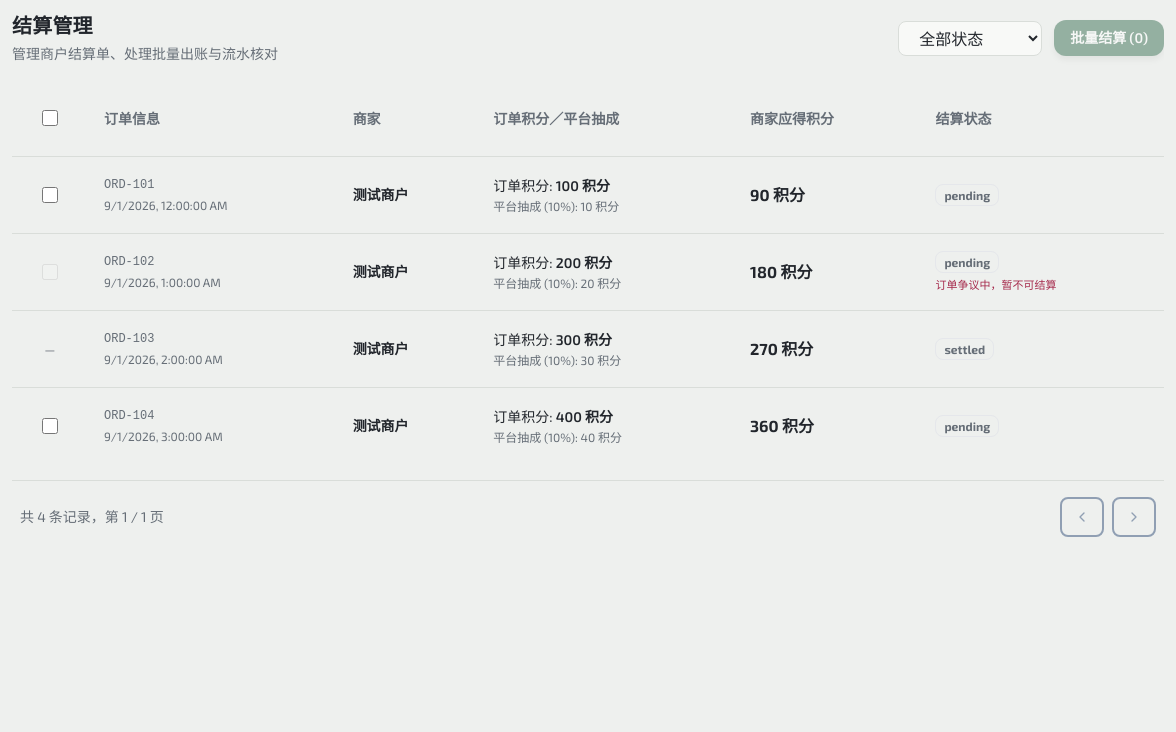
it: AdminSettlementPanel (PR 01 Remediation) › controls header checkbox indeterminate state on partial selection of eligible items
Expected: the text "ORD-101" is shown, [104,178,154,192]
Expected: the checkbox named "选择当前页待结算订单" is not checked, [42,110,58,126]
# Select row 1 (1 of 2 eligible pending items)
Click the checkbox with test id "admin-settlement-checkbox-1": (50, 195) [42,187,58,203]
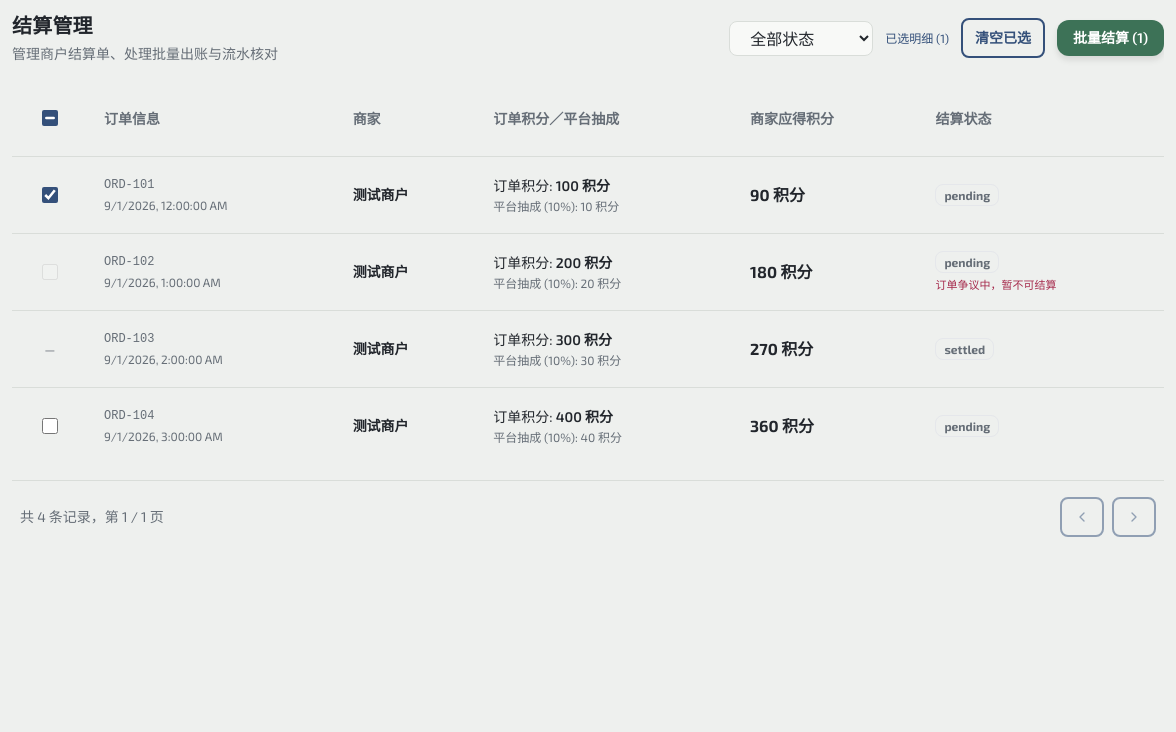
Expected: the checkbox named "选择当前页待结算订单" is not checked, [42,110,58,126]
# Select row 4 (now 2 of 2 eligible pending items selected)
Click the checkbox with test id "admin-settlement-checkbox-4": (50, 426) [42,418,58,434]
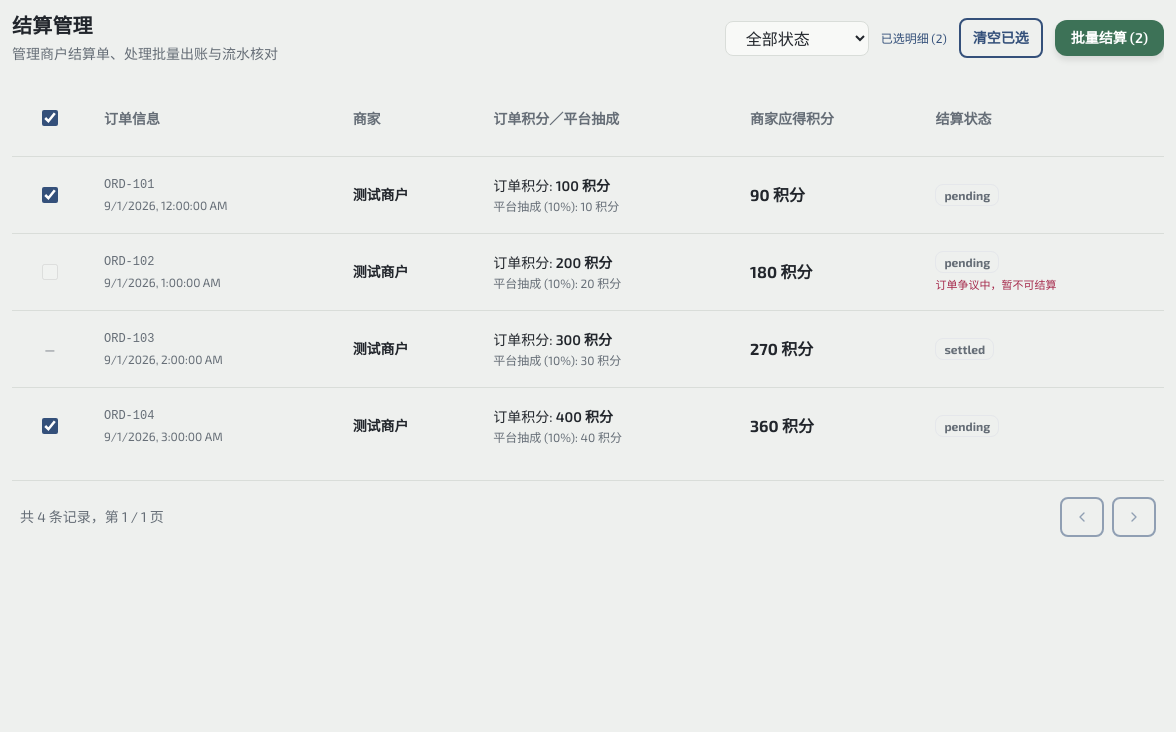
Expected: the checkbox named "选择当前页待结算订单" is checked, [42,110,58,126]
# Unselect row 1: partial again
Click the checkbox with test id "admin-settlement-checkbox-1": (50, 195) [42,187,58,203]
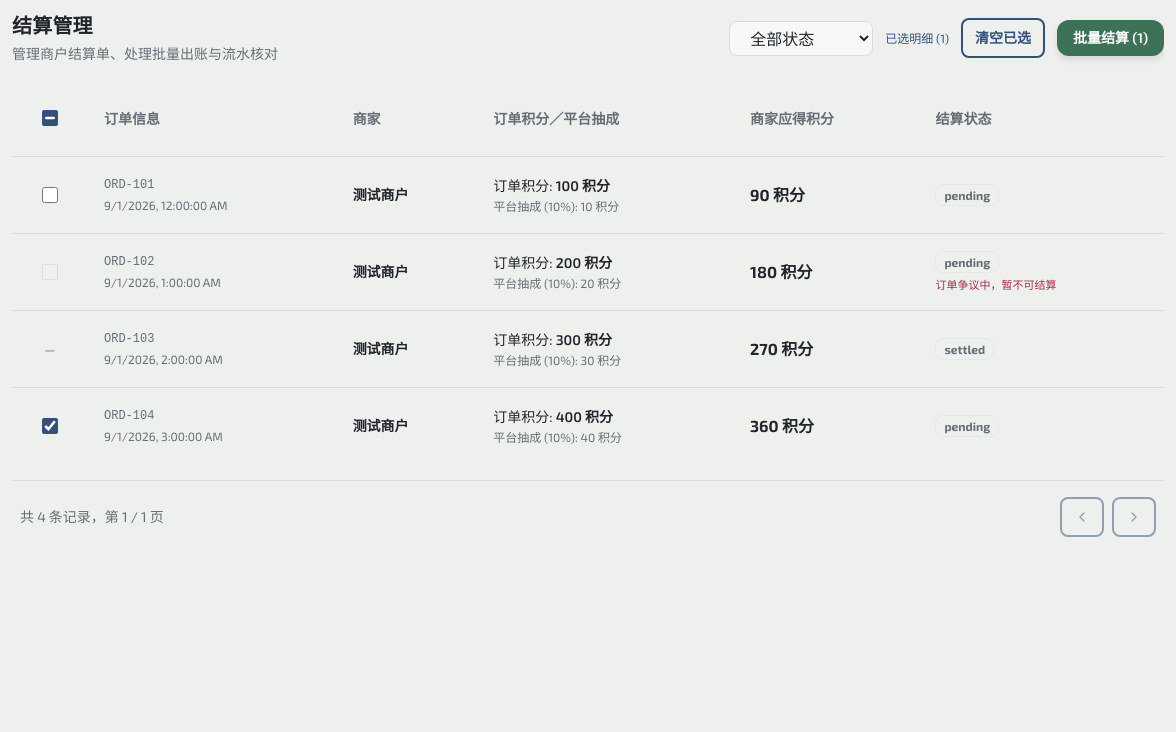
Expected: the checkbox named "选择当前页待结算订单" is not checked, [42,110,58,126]
